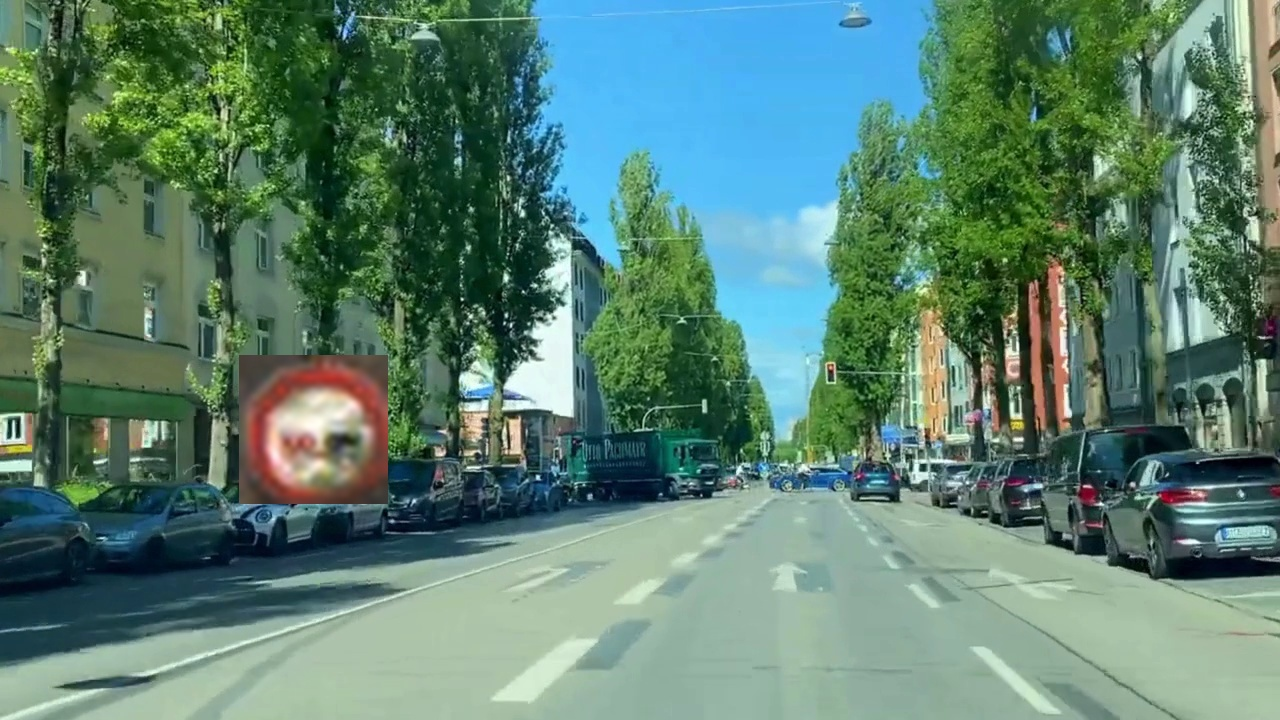No passing: (239, 355, 388, 504)
